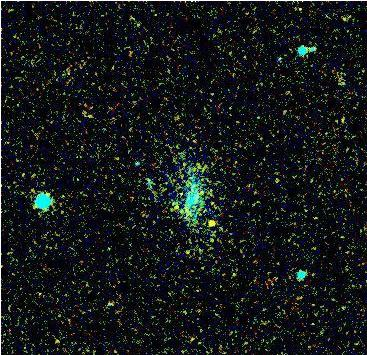star: (194, 209, 224, 239)
